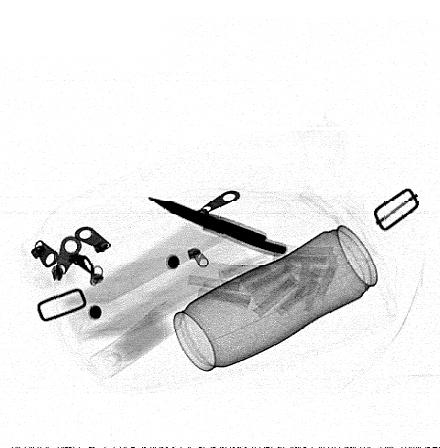Pliers: (146, 196, 287, 256)
